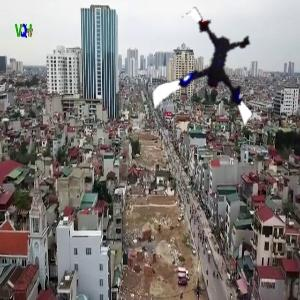drone: (158, 19, 275, 136)
